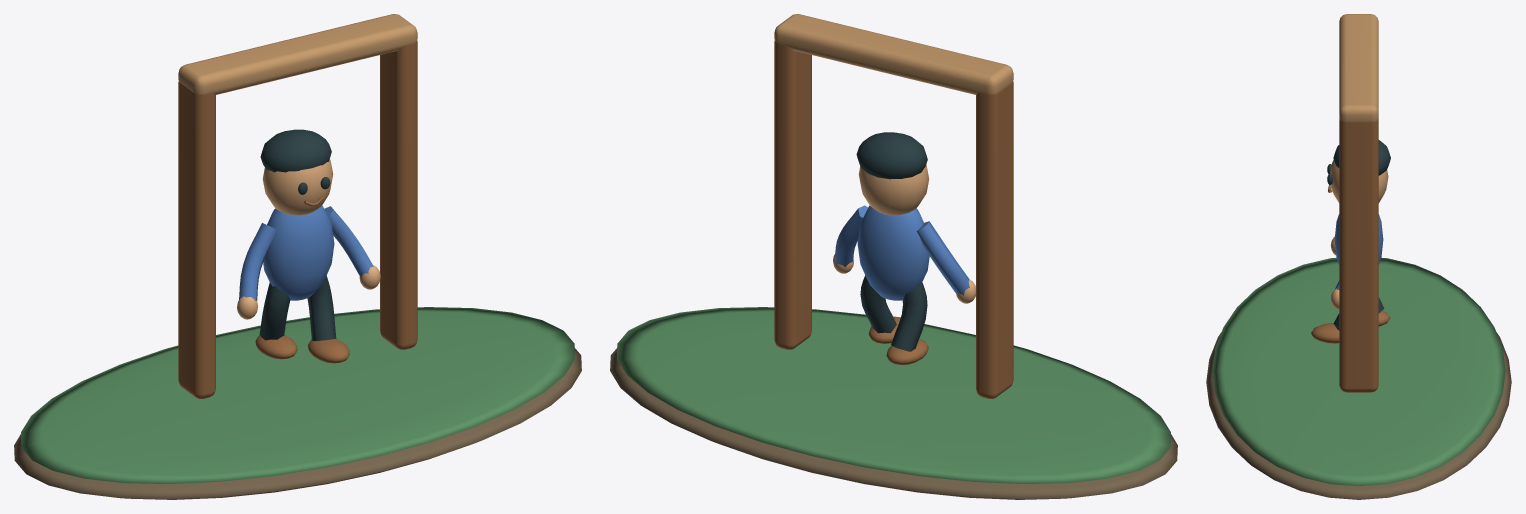
File: person-within.glb
3 renders of one model, left to right at view 1: azimuth 30°, elevation 25°; view 2: azimuth 150°, elevation 25°; view 3: azimuth 270°, elevation 25°, orthographic. The views are drawn at different scales.
Visible parts, largest first — view 1: person-within_surface_01, person-within_surface_02, person-within_surface_00, person-within_surface_03, person-within_surface_06, person-within_surface_05, person-within_surface_04; view 2: person-within_surface_01, person-within_surface_02, person-within_surface_00, person-within_surface_03, person-within_surface_06, person-within_surface_05, person-within_surface_04; view 3: person-within_surface_01, person-within_surface_02, person-within_surface_00, person-within_surface_03, person-within_surface_04, person-within_surface_05, person-within_surface_06.
Part boxes in pixels (x1,y1,x2,y2): person-within_surface_01: (21, 307, 574, 484); person-within_surface_02: (178, 40, 417, 398); person-within_surface_00: (14, 348, 581, 499); person-within_surface_03: (178, 14, 417, 94); person-within_surface_06: (239, 205, 373, 300); person-within_surface_05: (259, 129, 336, 340); person-within_surface_04: (237, 159, 380, 319); person-within_surface_01: (617, 307, 1170, 484); person-within_surface_02: (774, 40, 1013, 398); person-within_surface_00: (610, 348, 1177, 499); person-within_surface_03: (774, 14, 1013, 94); person-within_surface_06: (835, 205, 969, 300); person-within_surface_05: (856, 132, 927, 351); person-within_surface_04: (833, 164, 975, 303); person-within_surface_01: (1212, 257, 1505, 486); person-within_surface_02: (1311, 119, 1389, 392); person-within_surface_00: (1206, 332, 1511, 499); person-within_surface_03: (1339, 14, 1378, 121); person-within_surface_04: (1330, 160, 1388, 309); person-within_surface_05: (1327, 140, 1390, 330); person-within_surface_06: (1334, 214, 1383, 289).
Size of the model in its own units: 4.56 by 3.04 by 2.5.
